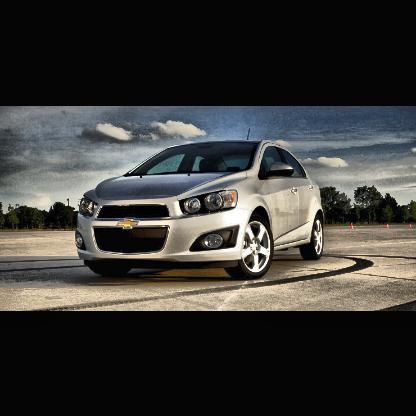Chevrolet Sonic Sedan 2012: (75, 140, 327, 284)
